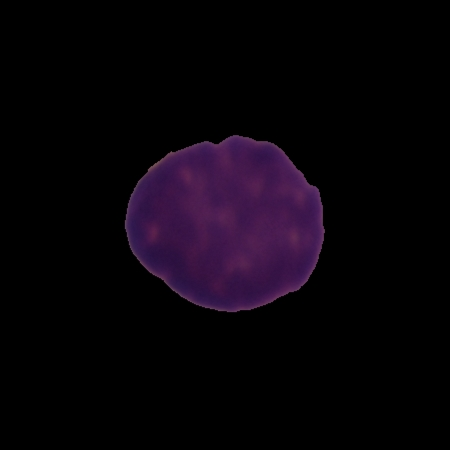HEM: (121, 130, 328, 315)
